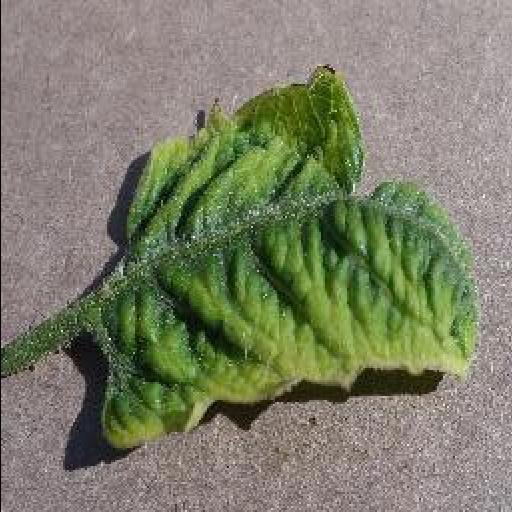disease_tomato: (94, 64, 484, 450)
